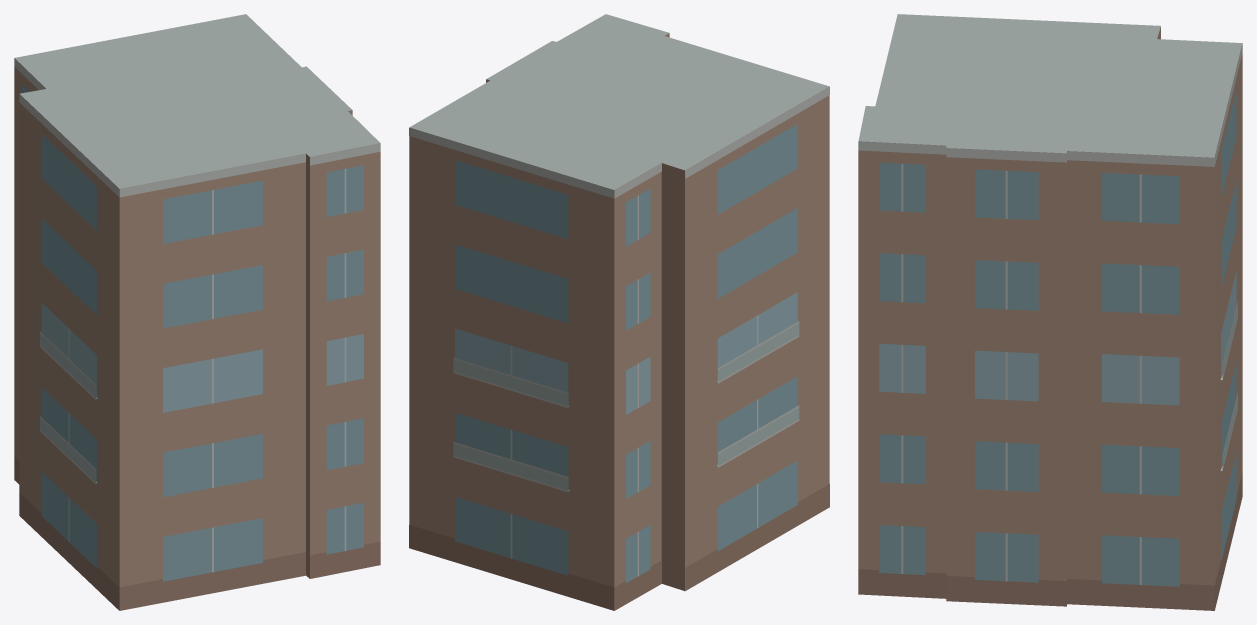
Rendered from survey-upis-32934445.glb.
3 views of the same model, side by side, from view 1: azimuth 30°, elevation 25°; view 2: azimuth 150°, elevation 25°; view 3: azimuth 270°, elevation 25° (orthographic). The views are drawn at different scales.
Visible parts, largest first — view 1: survey-upis-32934445.tmp; view 2: survey-upis-32934445.tmp; view 3: survey-upis-32934445.tmp.
Part boxes in pixels (x1=…): survey-upis-32934445.tmp: x1=14, y1=14, x2=380, y2=610; survey-upis-32934445.tmp: x1=409, y1=14, x2=829, y2=610; survey-upis-32934445.tmp: x1=858, y1=14, x2=1242, y2=610.
Size of the model in its own units: 8.17 by 12 by 9.23.
